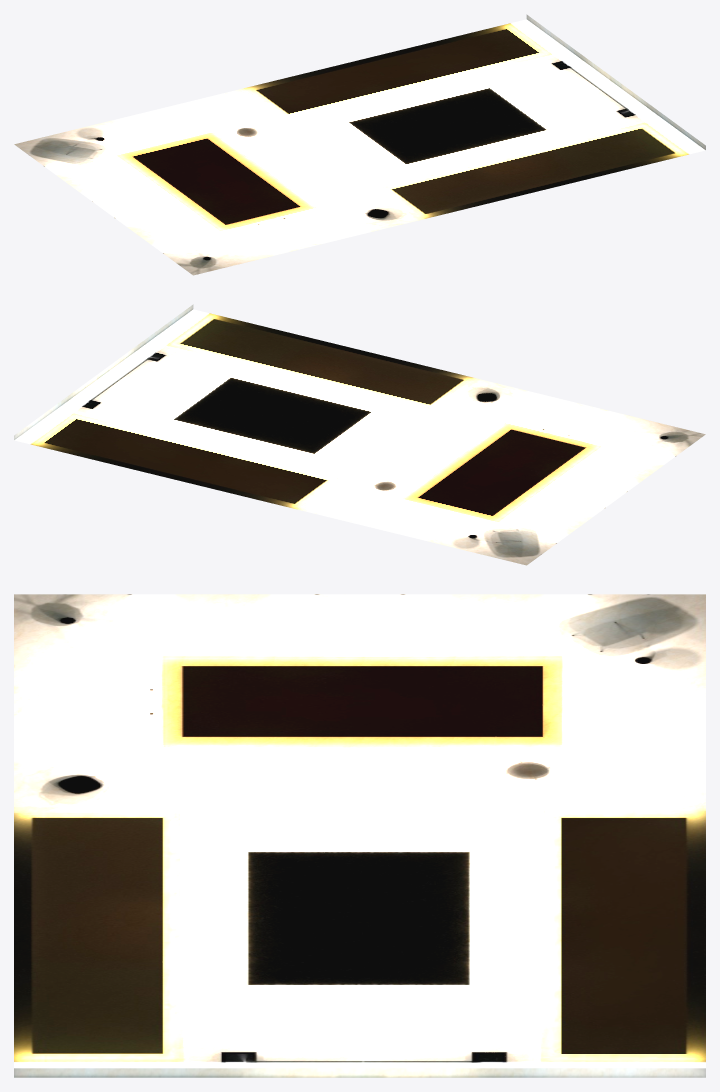
The model's file is Marcellus_Beige.glb.
The picture shows the model from 3 angles, top to bottom: view 1: azimuth 30°, elevation 25°; view 2: azimuth 150°, elevation 25°; view 3: azimuth 270°, elevation 25°; orthographic projection. The views are drawn at different scales.
Visible parts, largest first — view 1: Marcellus_Beige; view 2: Marcellus_Beige; view 3: Marcellus_Beige.
Part boxes in pixels (x1=…): Marcellus_Beige: x1=14, y1=14, x2=705, y2=275; Marcellus_Beige: x1=14, y1=304, x2=705, y2=565; Marcellus_Beige: x1=14, y1=594, x2=705, y2=1077.
Bounding box in the file's own units: 8.36 × 0.0748 × 5.06.
1 material, 1 textured.
